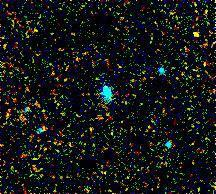star: (181, 21, 211, 51)
